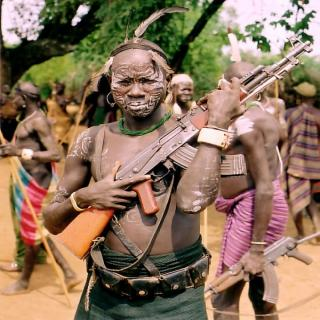gun: (60, 35, 313, 254), (203, 232, 319, 310)
